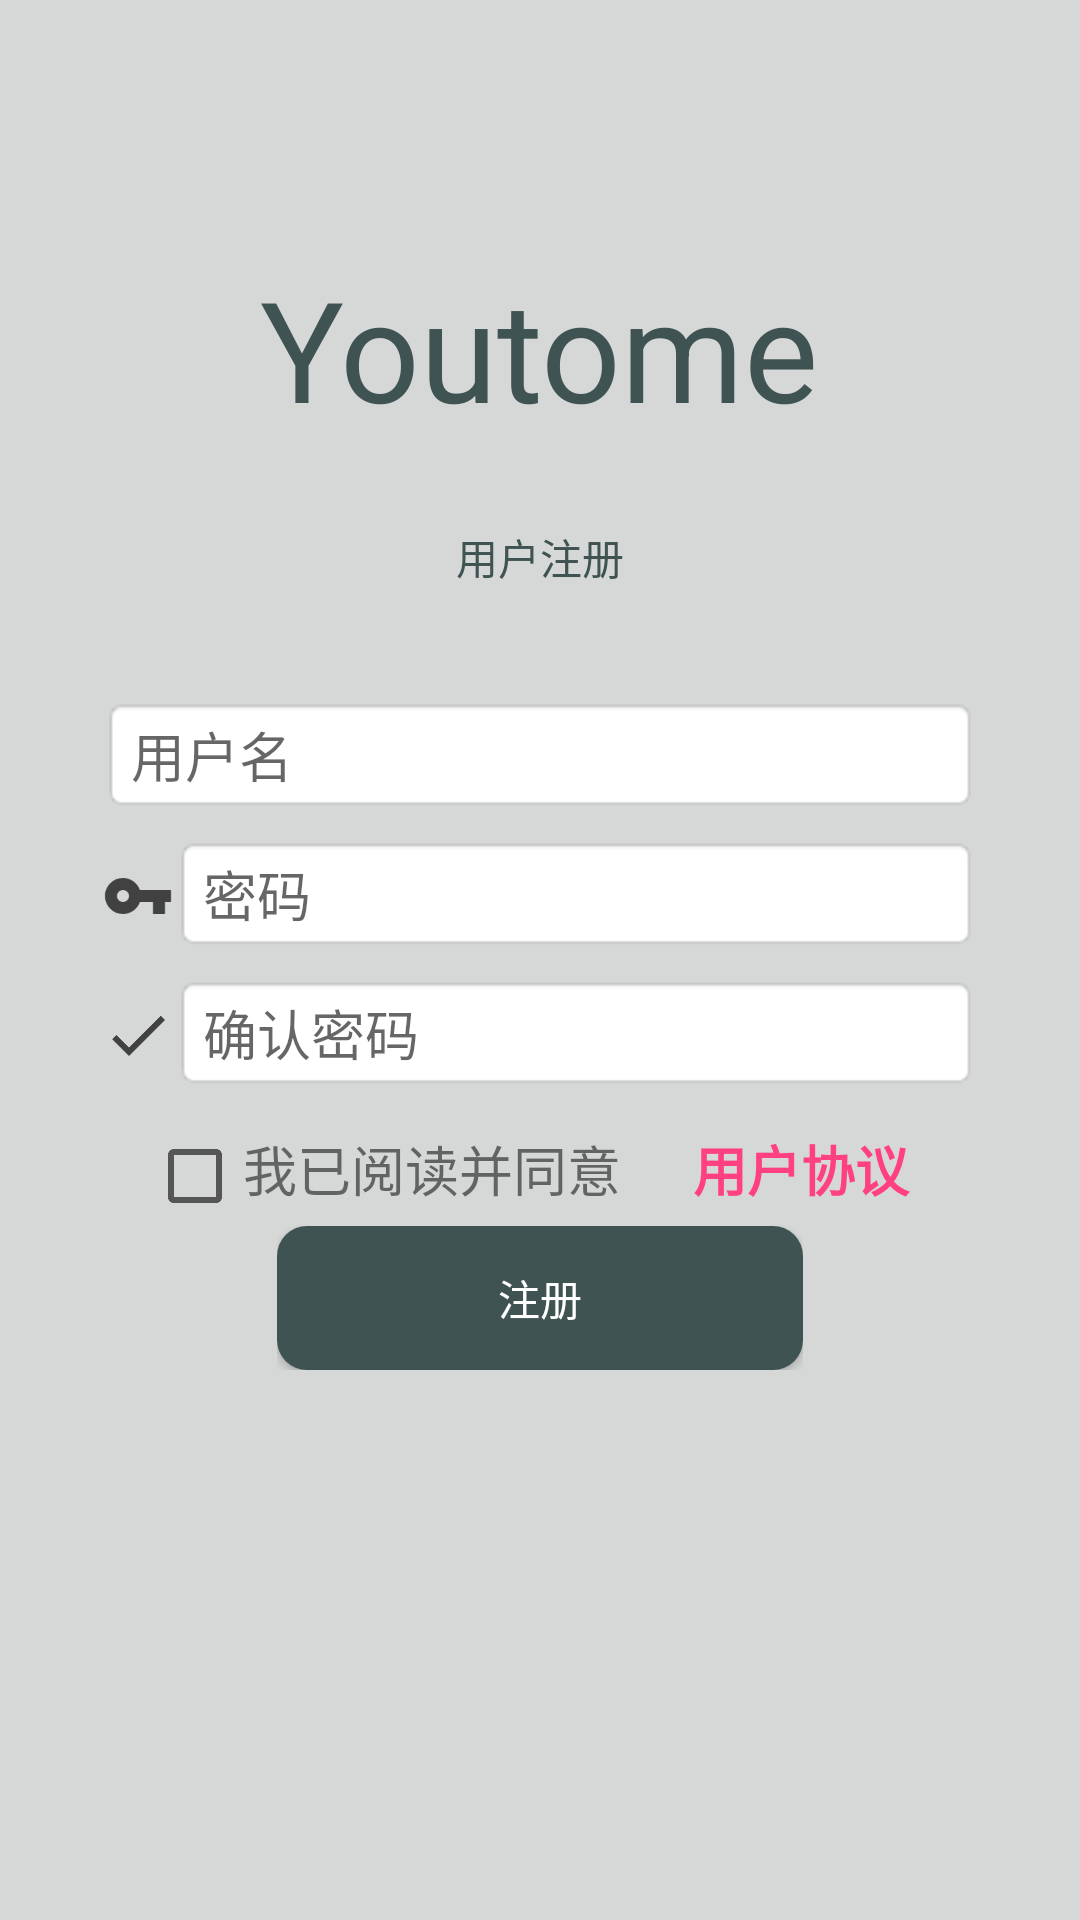

Icon click points for this 1080px x 1920px phone screenshot, format [x,y]:
done: [138,1036]
vpn key: [138,896]
